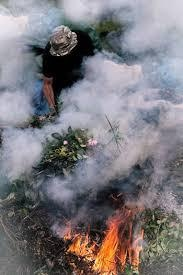fire: (61, 203, 147, 275)
